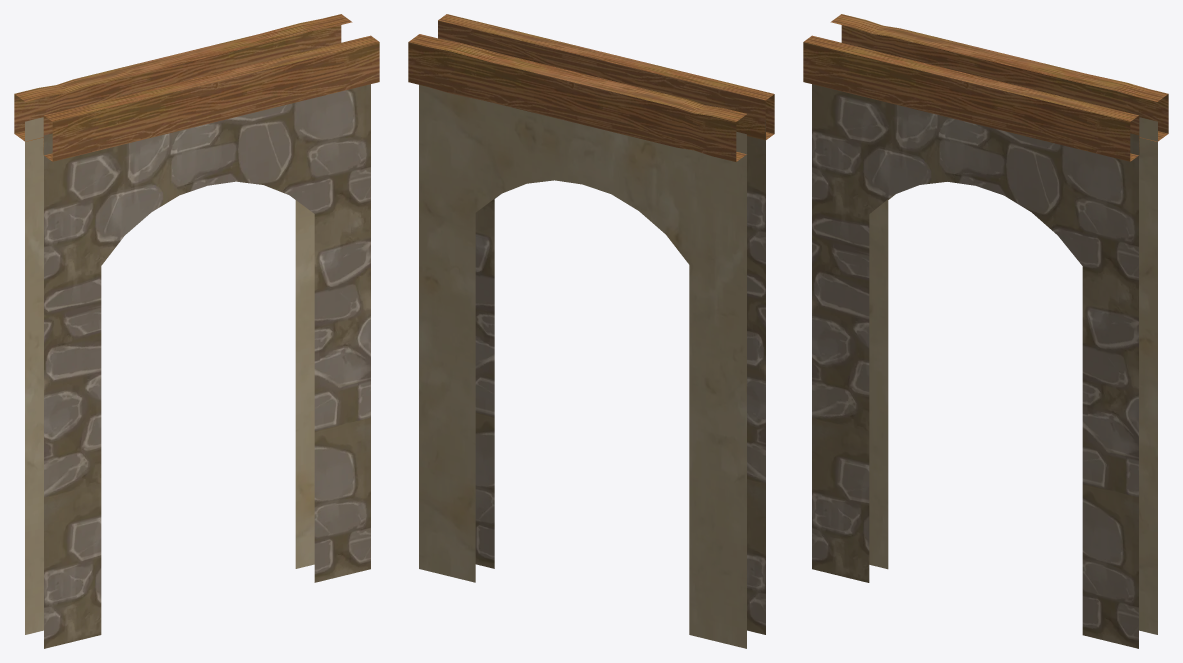
Rendered from mv_wall_stone_door.glb.
The picture shows the model from 3 angles, left to right: view 1: azimuth 30°, elevation 25°; view 2: azimuth 150°, elevation 25°; view 3: azimuth 330°, elevation 25°; orthographic projection.
Visible parts, largest first — view 1: Wall_UnevenBrick_Door_Round; view 2: Wall_UnevenBrick_Door_Round; view 3: Wall_UnevenBrick_Door_Round.
Boxes of the visible parts, x1=… form: Wall_UnevenBrick_Door_Round: x1=14, y1=14, x2=379, y2=648; Wall_UnevenBrick_Door_Round: x1=408, y1=14, x2=774, y2=648; Wall_UnevenBrick_Door_Round: x1=803, y1=14, x2=1168, y2=648.
Size of the model in its own units: 2 by 3.12 by 0.4064.
3 materials, 3 textured.
